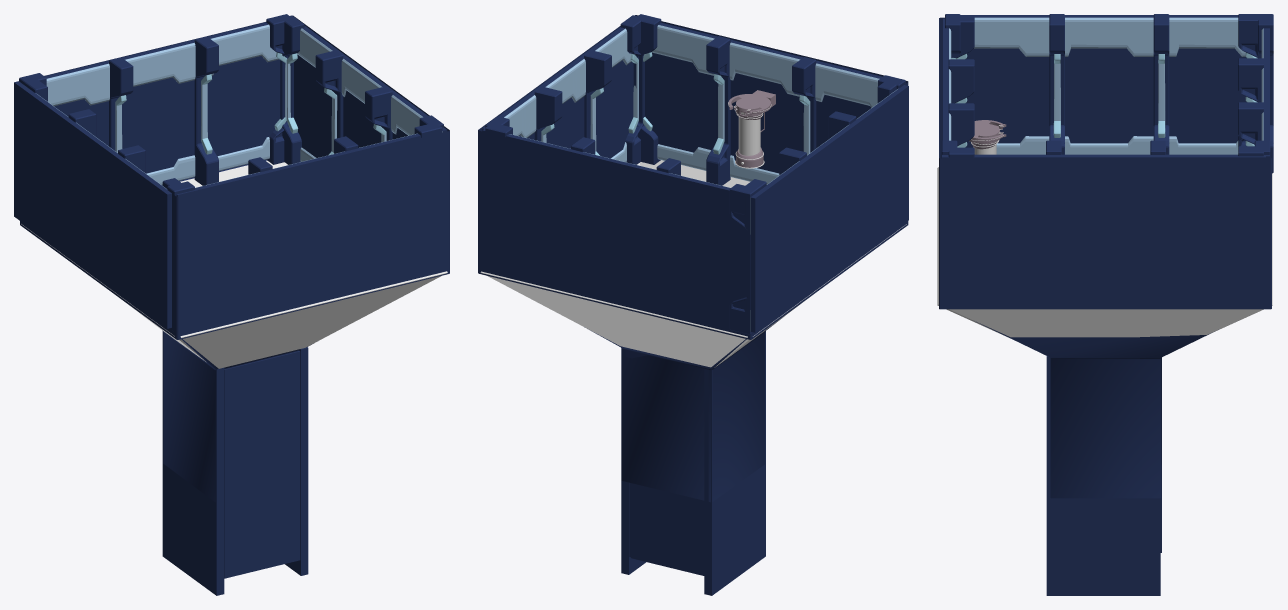
The model's file is corridor_01.fbx.
The picture shows the model from 3 angles, left to right: view 1: azimuth 30°, elevation 25°; view 2: azimuth 150°, elevation 25°; view 3: azimuth 270°, elevation 25°; orthographic projection. The views are drawn at different scales.
Parts seen in each view (by area): view 1: Big_Room, Wall3.001, Wall3.004, Wall1, Circuit_Board, Floorboard2, Wall3.002, Ridge_outside.004, Ridge_outside.002, Floorboard1, Circuit_Board.004, Ridge_outside.001 (+2 smaller); view 2: Big_Room, Wall3.001, Wall3.003, Wall3.002, Circuit_Board.003, Floorboard2, Ridge_outside.003, Wall2, Ridge_outside.002, Ridge_outside.001, Wall3.004, Ridge_outside.004 (+3 smaller); view 3: Big_Room, Wall3.001, Floorboard1, Circuit_Board.001, Ridge_outside.001, Ridge_outside.004, Ridge_outside.003, Wall3.002, Wall3.004, Wall3.003, Ridge_outside.002, Cylinder.001.
Boxes of the visible parts, x1,y1,x2,y2 form: Big_Room: (20, 15, 449, 502); Wall3.001: (14, 81, 171, 328); Wall3.004: (45, 22, 280, 184); Wall1: (224, 351, 300, 578); Circuit_Board: (180, 271, 447, 368); Floorboard2: (162, 331, 224, 595); Wall3.002: (294, 26, 447, 161); Ridge_outside.004: (24, 15, 304, 185); Ridge_outside.002: (266, 14, 442, 164); Floorboard1: (285, 347, 308, 575); Circuit_Board.004: (181, 272, 446, 368); Ridge_outside.001: (19, 73, 194, 331); Big_Room: (478, 15, 908, 502); Wall3.001: (750, 85, 908, 332); Wall3.003: (644, 22, 882, 184); Wall3.002: (482, 27, 633, 162); Circuit_Board.003: (480, 271, 747, 367); Floorboard2: (704, 331, 765, 595); Ridge_outside.003: (620, 15, 900, 185); Wall2: (629, 482, 704, 574); Ridge_outside.002: (485, 14, 661, 164); Ridge_outside.001: (729, 75, 905, 334); Wall3.004: (482, 128, 730, 191); Ridge_outside.004: (485, 116, 766, 191); Big_Room: (939, 17, 1271, 498); Wall3.001: (961, 15, 1246, 154); Floorboard1: (1046, 356, 1160, 595); Circuit_Board.001: (949, 309, 1262, 337); Ridge_outside.001: (945, 14, 1273, 173); Ridge_outside.004: (1238, 14, 1263, 156); Ridge_outside.003: (948, 15, 974, 158); Wall3.002: (942, 154, 1265, 158); Wall3.004: (1261, 28, 1269, 158); Wall3.003: (943, 18, 951, 140); Ridge_outside.002: (941, 140, 1270, 158); Cylinder.001: (969, 120, 1006, 142).
Bounding box in the file's own units: 10526 × 16735 × 10439.
